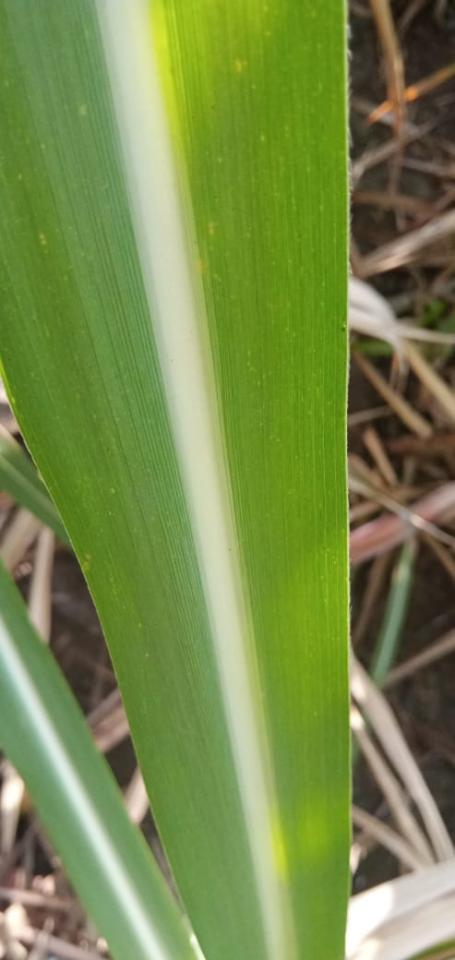Healthy: (0, 0, 353, 959)
